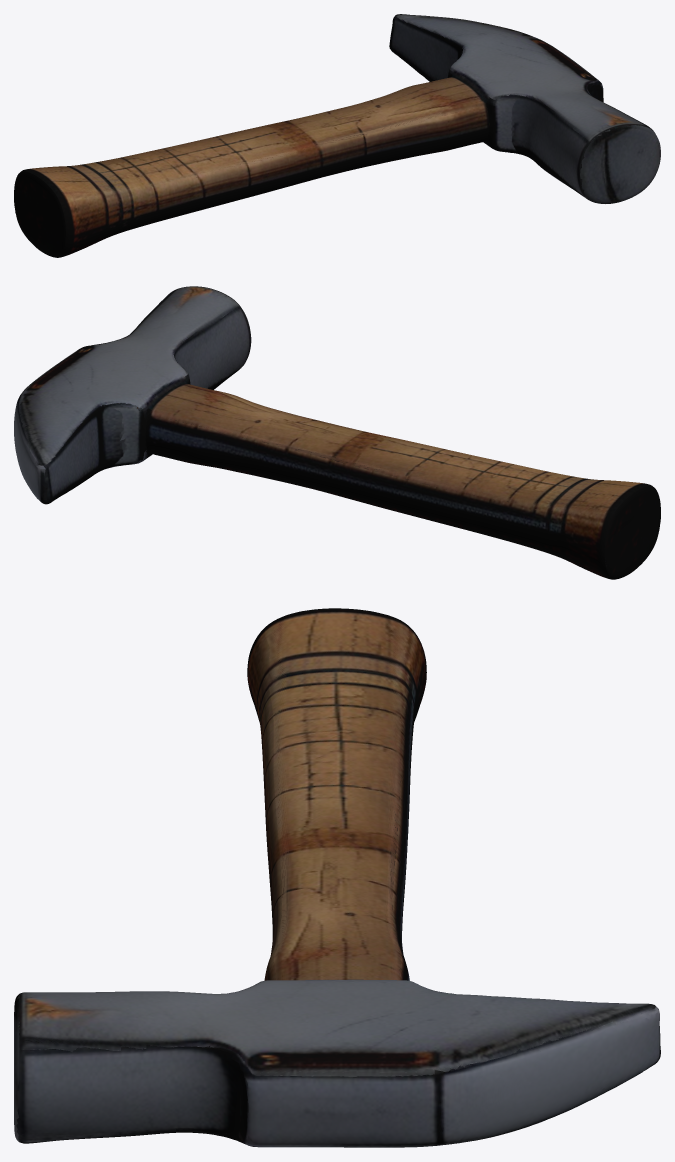
File: source-15.glb
3 views of the same model, one above another, from view 1: azimuth 30°, elevation 25°; view 2: azimuth 150°, elevation 25°; view 3: azimuth 270°, elevation 25° (orthographic). The views are drawn at different scales.
Visible parts, largest first — view 1: tmp4xjd58ze.ply; view 2: tmp4xjd58ze.ply; view 3: tmp4xjd58ze.ply.
Part boxes in pixels (box(x1,y1,x2,y2)): tmp4xjd58ze.ply: box(14, 14, 660, 257); tmp4xjd58ze.ply: box(14, 286, 660, 579); tmp4xjd58ze.ply: box(14, 608, 660, 1147).
Size of the model in its own units: 1.96 by 0.2669 by 1.2.
1 material, 1 textured.
